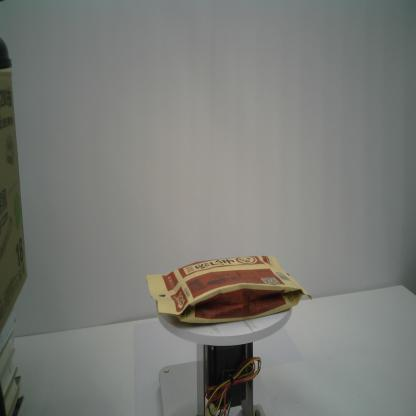Dried Food: (145, 254, 312, 326)
